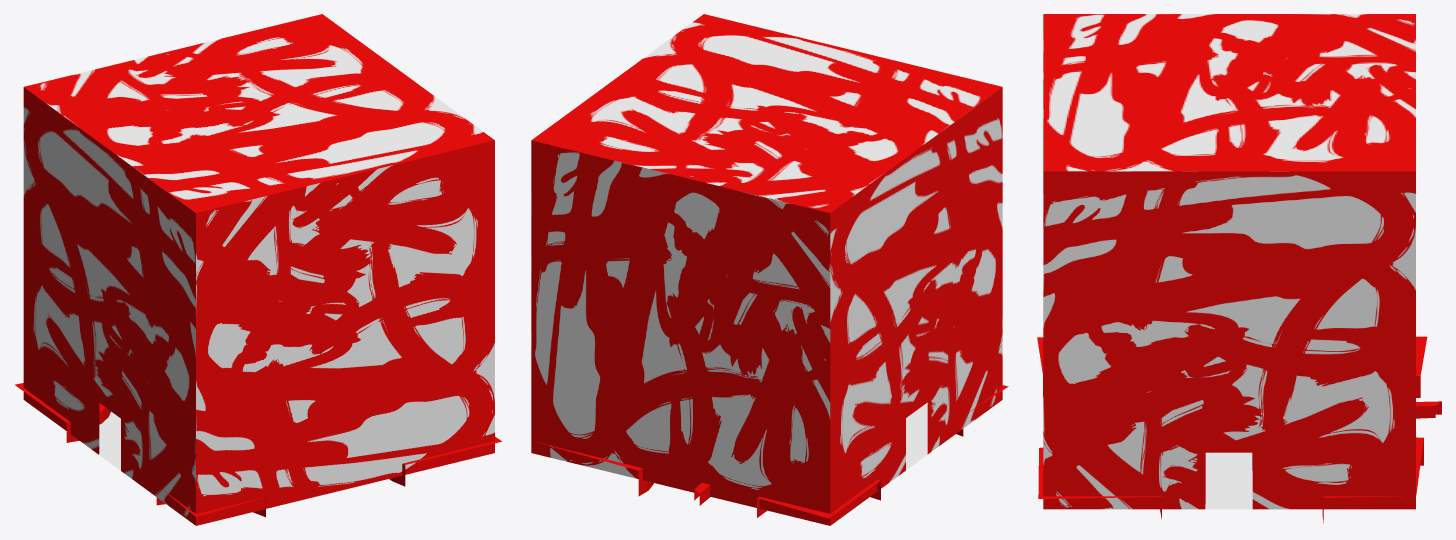
File: Red_Rm.fbx
3 views of the same model, side by side, from view 1: azimuth 30°, elevation 25°; view 2: azimuth 150°, elevation 25°; view 3: azimuth 270°, elevation 25° (orthographic). The views are drawn at different scales.
Visible parts, largest first — view 1: P_Red_Rm; view 2: P_Red_Rm; view 3: P_Red_Rm.
Boxes of the visible parts, x1,y1,x2,y2 form: P_Red_Rm: (15, 14, 501, 525); P_Red_Rm: (531, 14, 1008, 525); P_Red_Rm: (1037, 14, 1441, 523).
Bounding box in the file's own units: 28.66 × 29.05 × 30.21.
